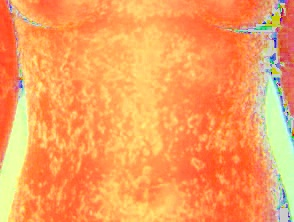SJS-TEN: (6, 0, 290, 221)
